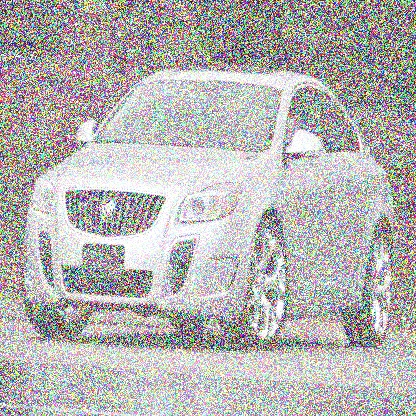Vehicle: (21, 67, 398, 350)
